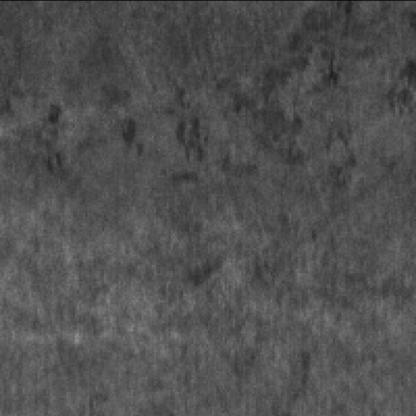rolled-in_scale: (194, 19, 366, 162), (37, 85, 212, 183), (383, 50, 416, 118)
